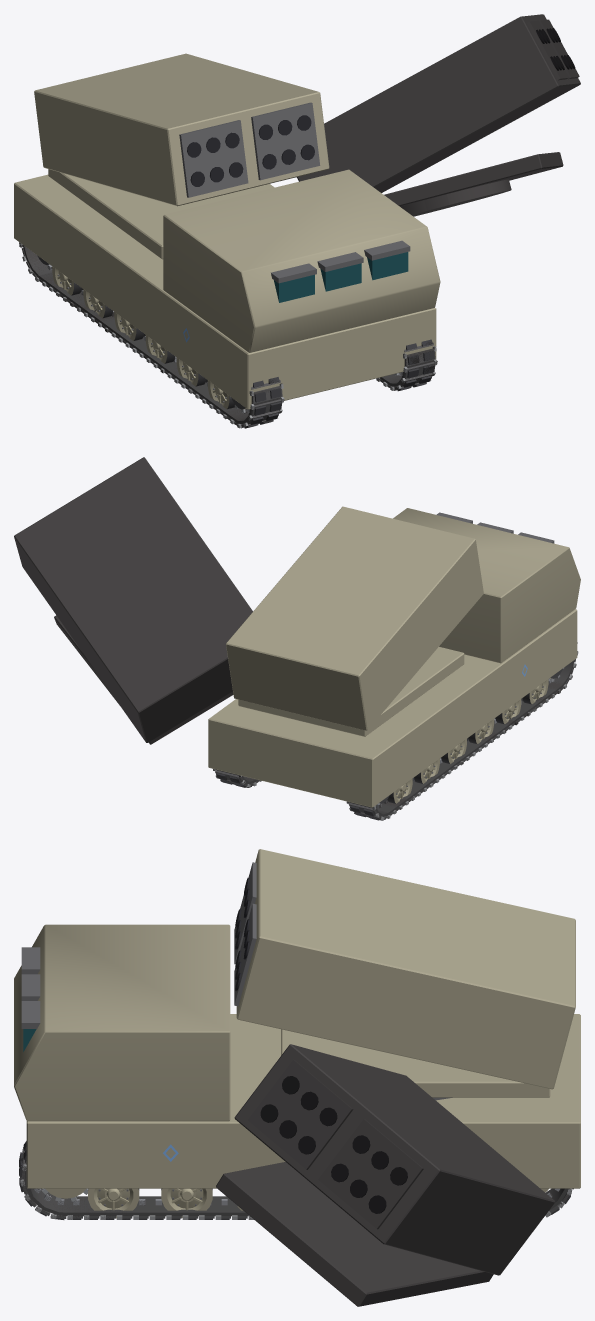
File: himars__m270a2_gmlrs.glb
3 renders of one model, top to bottom at view 1: azimuth 30°, elevation 25°; view 2: azimuth 150°, elevation 25°; view 3: azimuth 270°, elevation 25°, orthographic. The views are drawn at different scales.
Visible parts, largest first — view 1: Hull_Mesh, Gun_Mesh, Wreck, Turret_Mesh, Track_L_Mesh, Track_R_Mesh; view 2: Wreck, Hull_Mesh, Gun_Mesh, Turret_Mesh, Track_L_Mesh; view 3: Hull_Mesh, Gun_Mesh, Wreck, Turret_Mesh, Track_R_Mesh, Wheel_R4_Mesh, Wheel_R5_Mesh.
Boxes of the visible parts, left/top/right/bottom form: Hull_Mesh: left=14, top=169, right=440, bottom=409; Gun_Mesh: left=34, top=53, right=329, bottom=206; Wreck: left=19, top=14, right=580, bottom=428; Turret_Mesh: left=48, top=169, right=274, bottom=259; Track_L_Mesh: left=19, top=242, right=284, bottom=428; Track_R_Mesh: left=376, top=339, right=436, bottom=391; Wreck: left=14, top=457, right=577, bottom=820; Hull_Mesh: left=208, top=508, right=580, bottom=807; Gun_Mesh: left=226, top=506, right=483, bottom=730; Turret_Mesh: left=238, top=647, right=464, bottom=736; Track_L_Mesh: left=346, top=642, right=578, bottom=820; Hull_Mesh: left=14, top=924, right=580, bottom=1188; Gun_Mesh: left=234, top=849, right=575, bottom=1089; Wreck: left=19, top=1044, right=571, bottom=1306; Turret_Mesh: left=281, top=1029, right=550, bottom=1100; Track_R_Mesh: left=19, top=1141, right=573, bottom=1219; Wheel_R4_Mesh: left=161, top=1188, right=212, bottom=1217; Wheel_R5_Mesh: left=88, top=1188, right=139, bottom=1218.
Size of what is drawn, in the model's own units: 8.1 by 3.94 by 6.94.
